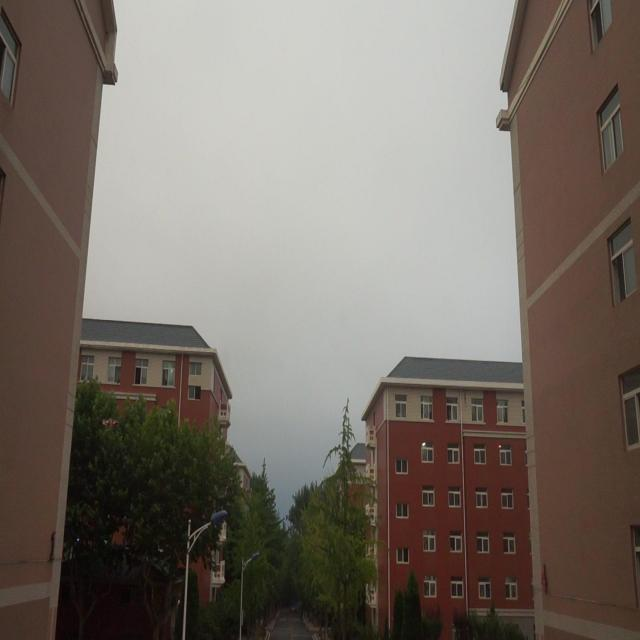UAV: (102, 418, 119, 432)
